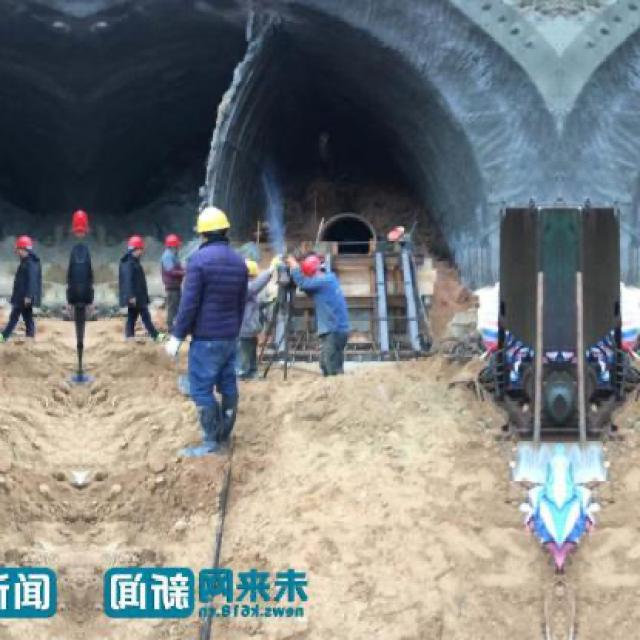helmet: (194, 206, 230, 248), (234, 256, 259, 296), (302, 250, 330, 284), (127, 233, 148, 264), (11, 233, 32, 264), (162, 231, 182, 260), (80, 208, 93, 248), (66, 208, 79, 248)
